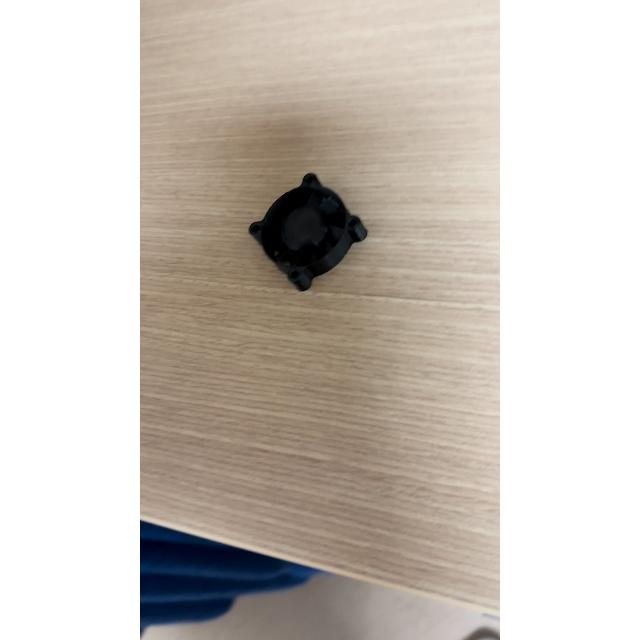Pieza_4: (225, 160, 403, 314)
